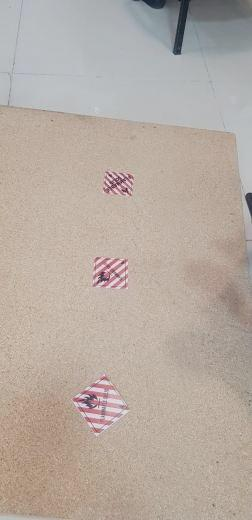flammable-solid: (71, 374, 132, 438), (93, 256, 128, 288), (101, 171, 133, 197)
